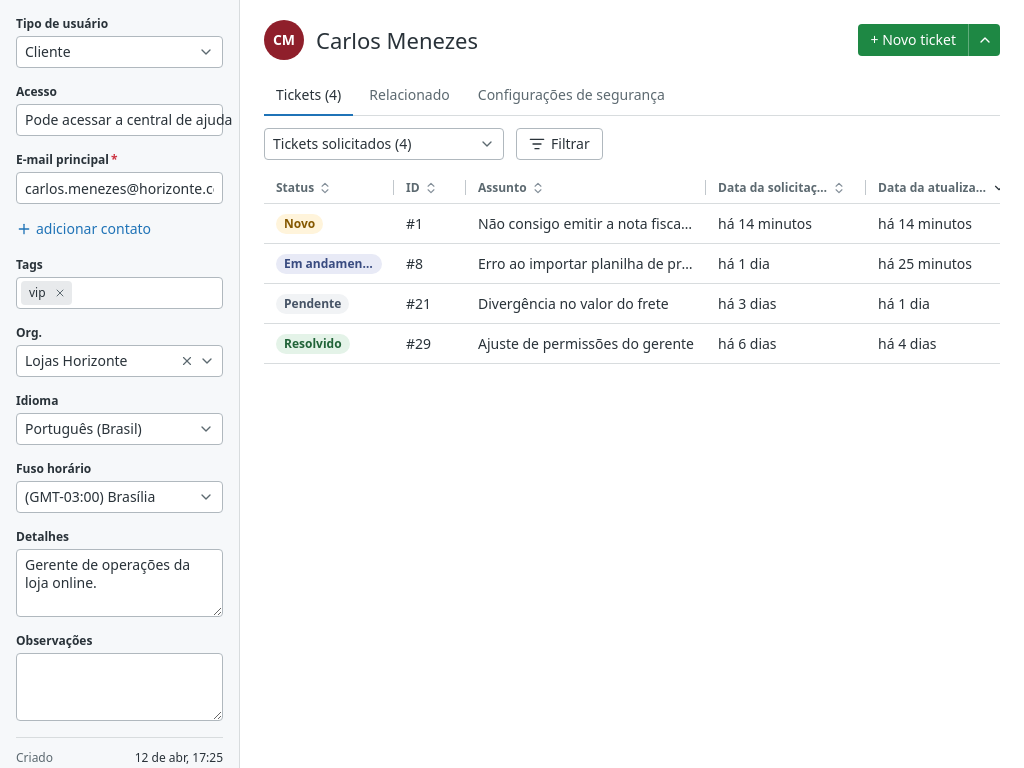
Test: Perfil do cliente › valida e-mail ao salvar
Replace the text in the field labelled "E-mail principal*" with "x": (120, 188) x1=17 y1=173 x2=222 y2=203
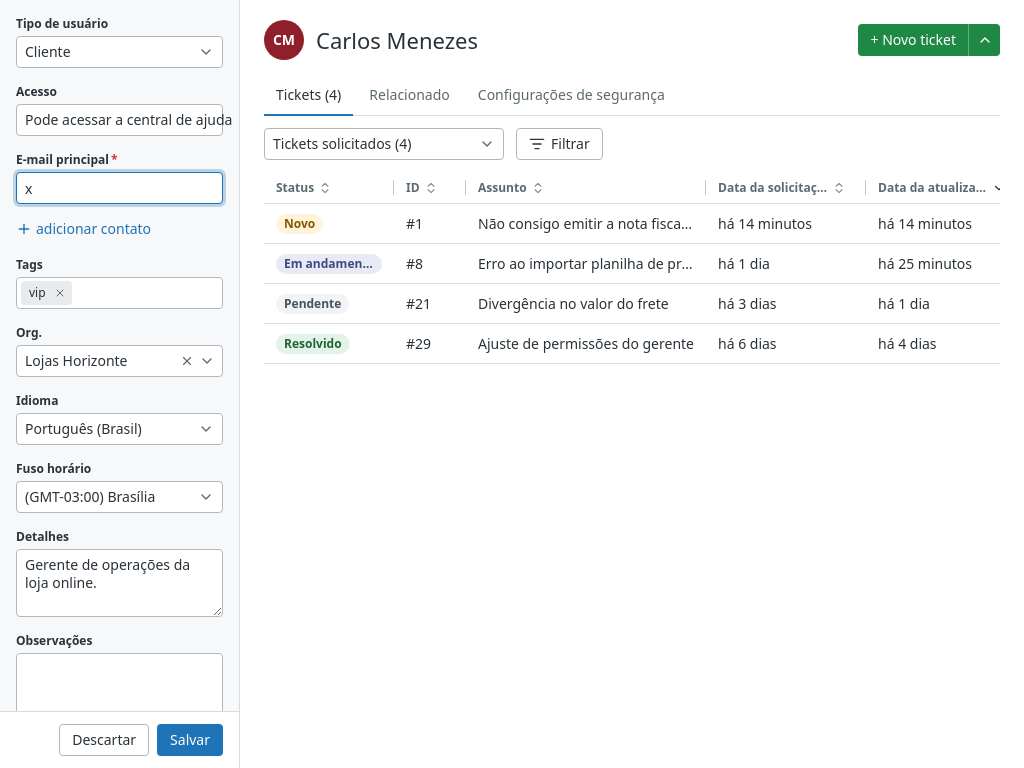
Click the button "Salvar": click(190, 740) x1=157 y1=724 x2=223 y2=756
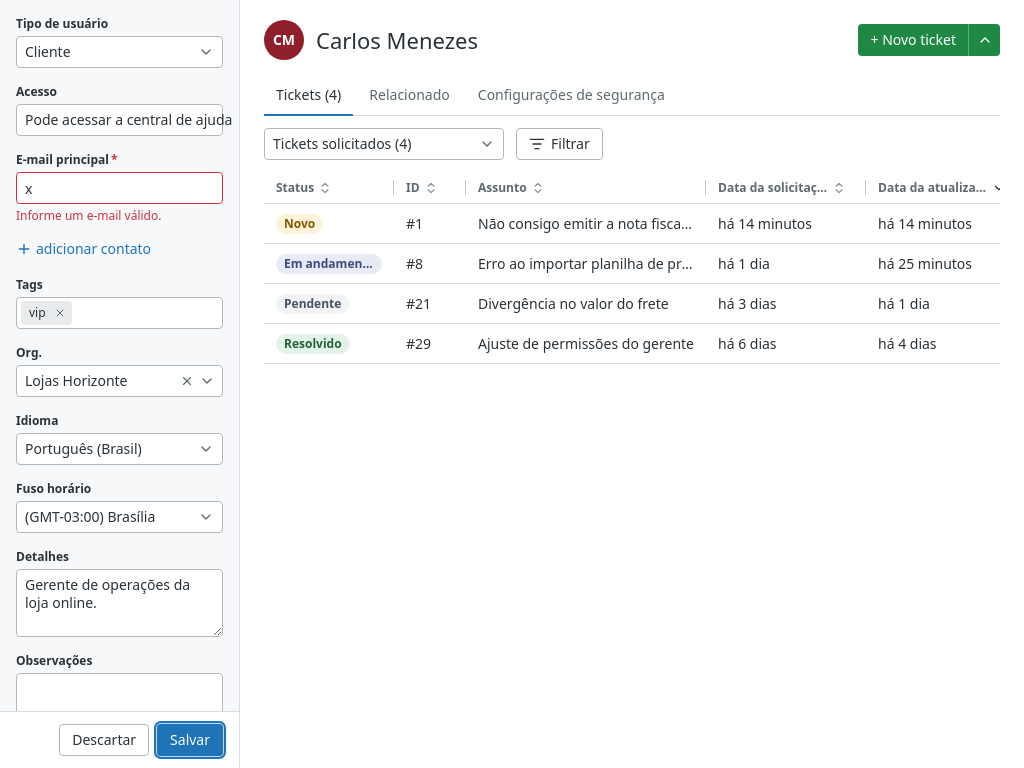
Result: the text "Informe um e-mail válido." is shown at x1=16 y1=207 x2=162 y2=224
